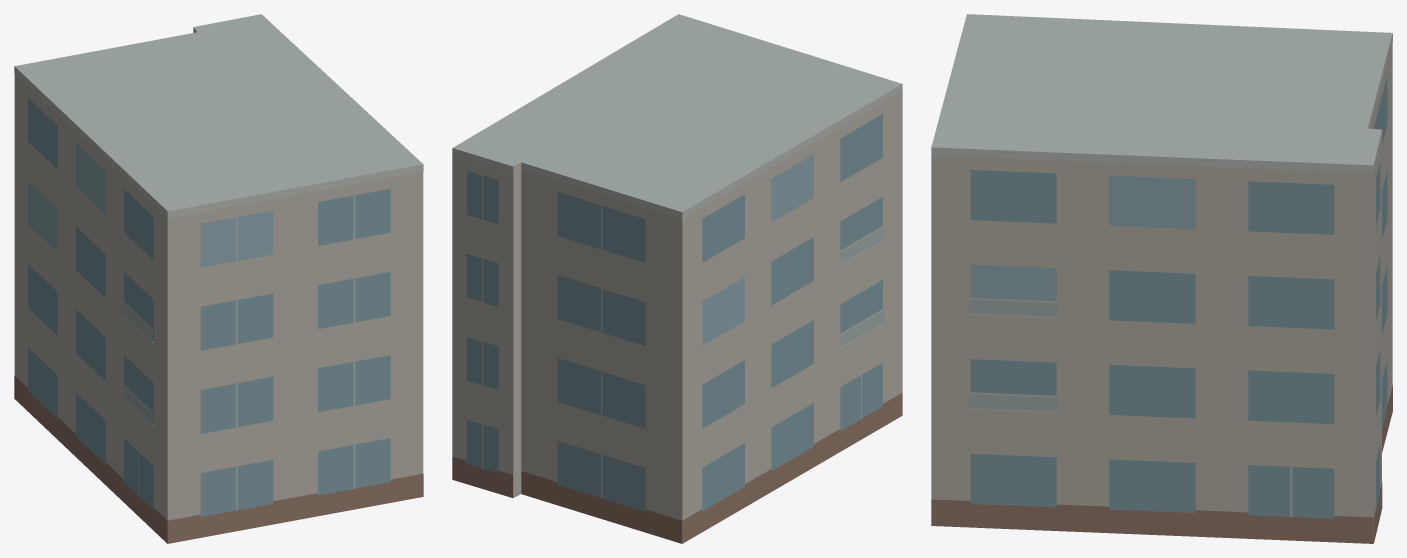
Rendered from survey-upis-32967857.glb.
The picture shows the model from 3 angles, left to right: view 1: azimuth 30°, elevation 25°; view 2: azimuth 150°, elevation 25°; view 3: azimuth 270°, elevation 25°; orthographic projection. The views are drawn at different scales.
Parts seen in each view (by area): view 1: survey-upis-32967857.tmp; view 2: survey-upis-32967857.tmp; view 3: survey-upis-32967857.tmp.
Boxes of the visible parts, x1,y1,x2,y2 form: survey-upis-32967857.tmp: (14,14,423,543); survey-upis-32967857.tmp: (452,14,902,543); survey-upis-32967857.tmp: (931,14,1392,543).
Size of the model in its own units: 9.66 by 11.25 by 12.44.
